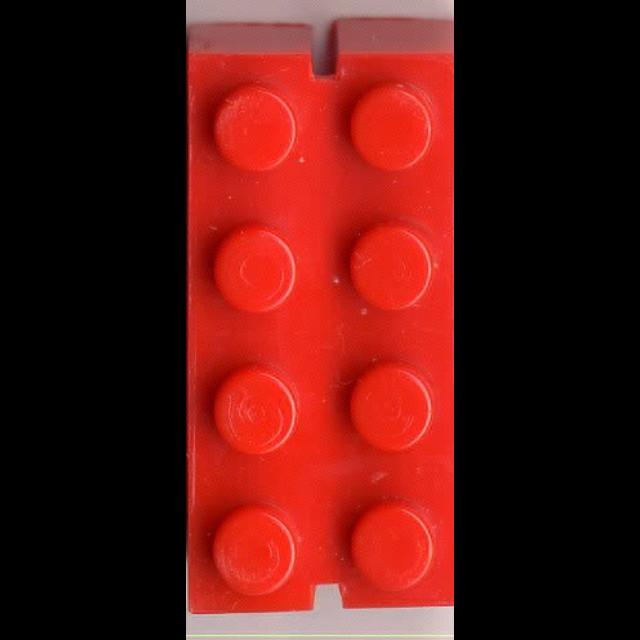2x4: (189, 23, 453, 613)
